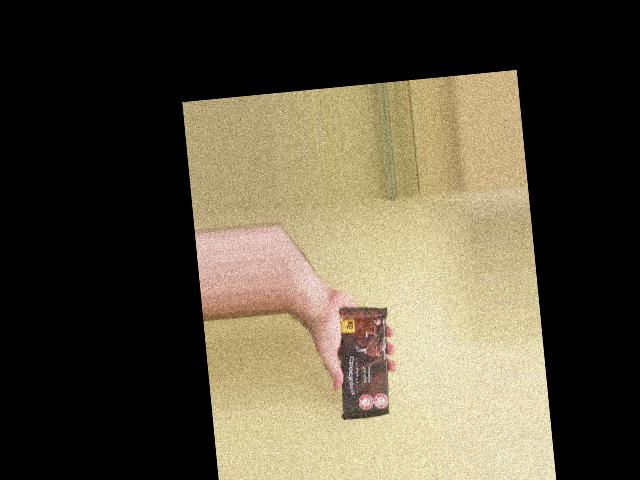chocolate: (329, 303, 397, 419)
